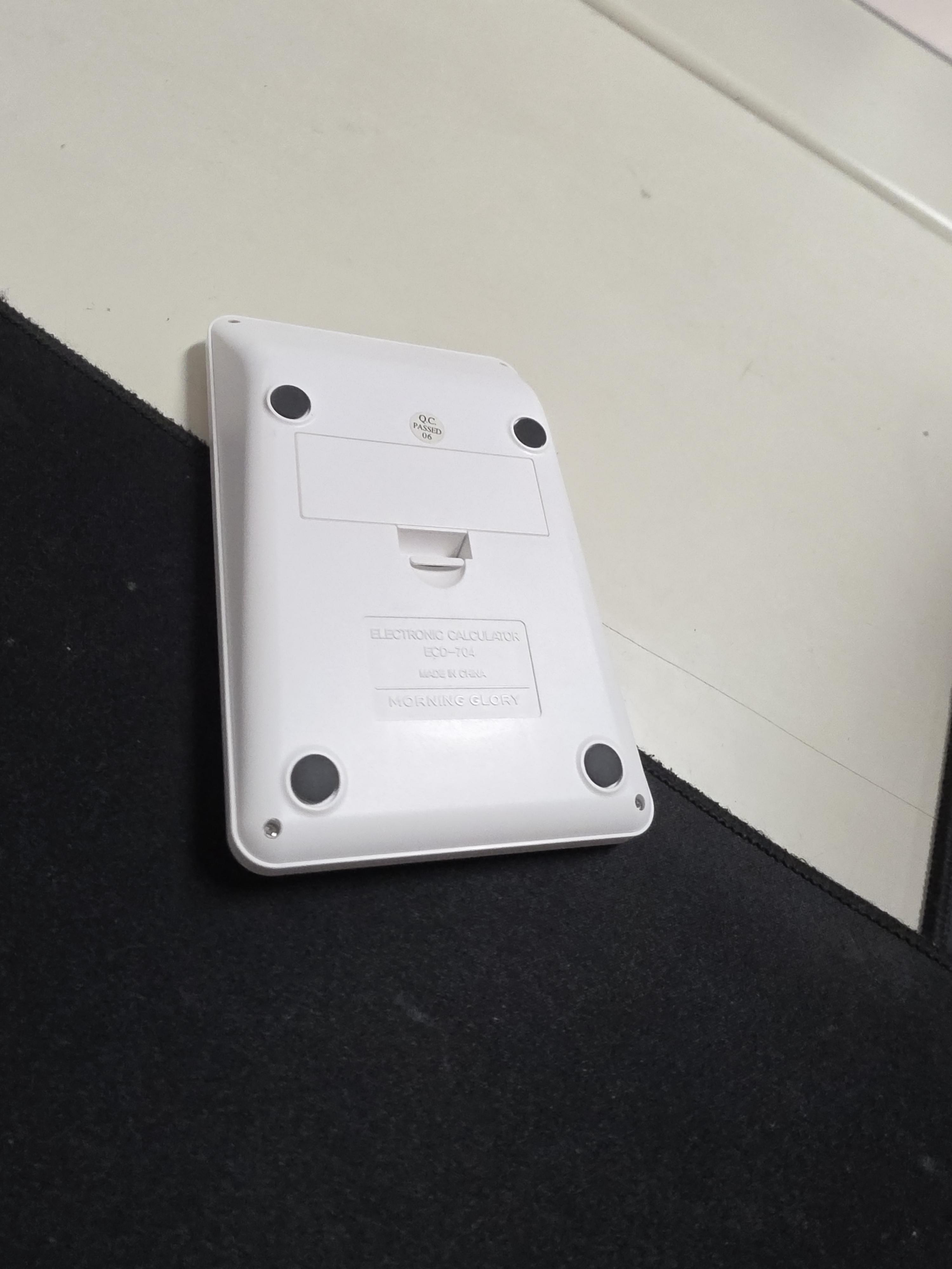calculator: (205, 315, 656, 877)
